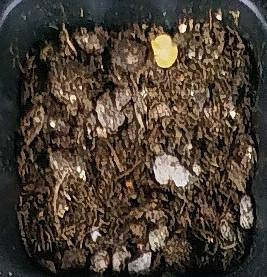pepper seed: (59, 0, 240, 68)
